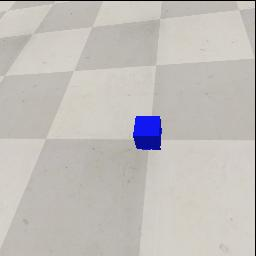box: (133, 116, 162, 150)
